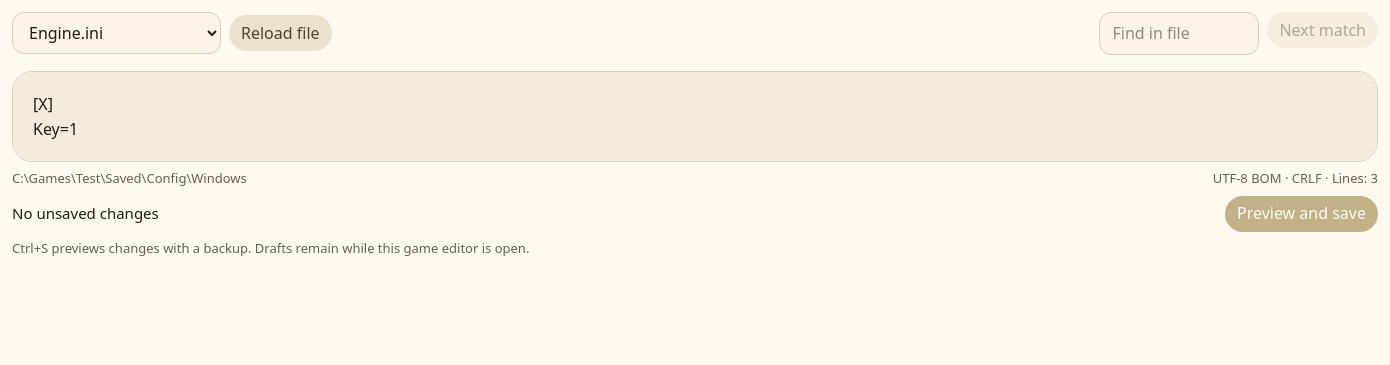
Scenario: INI text editor › reports a completed write even if rereading the saved file fails
Replace the text in the text box named "INI file text" with "; saved draft" at (695, 117), box [12,71,1378,162]
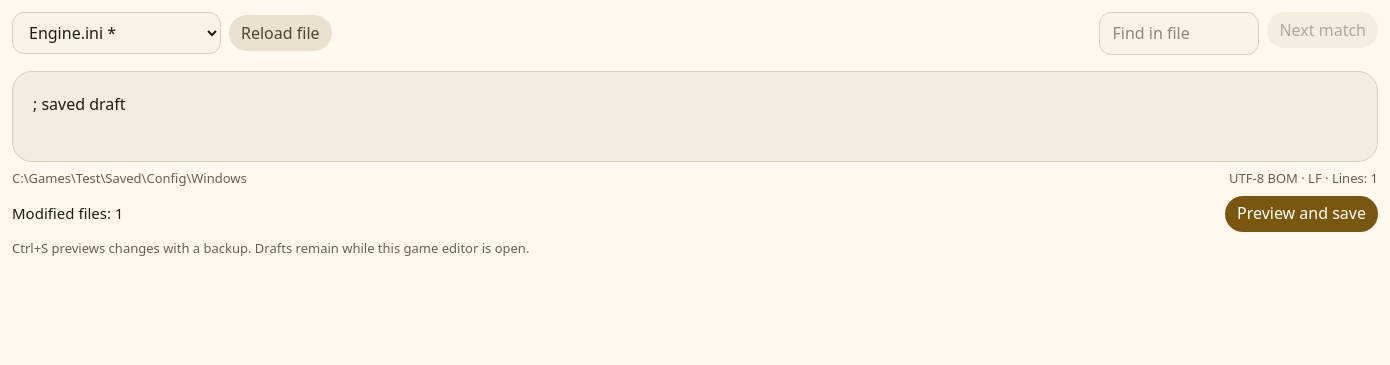
Click the button "Preview and save".
click(1302, 214)  # box [1225,196,1378,232]
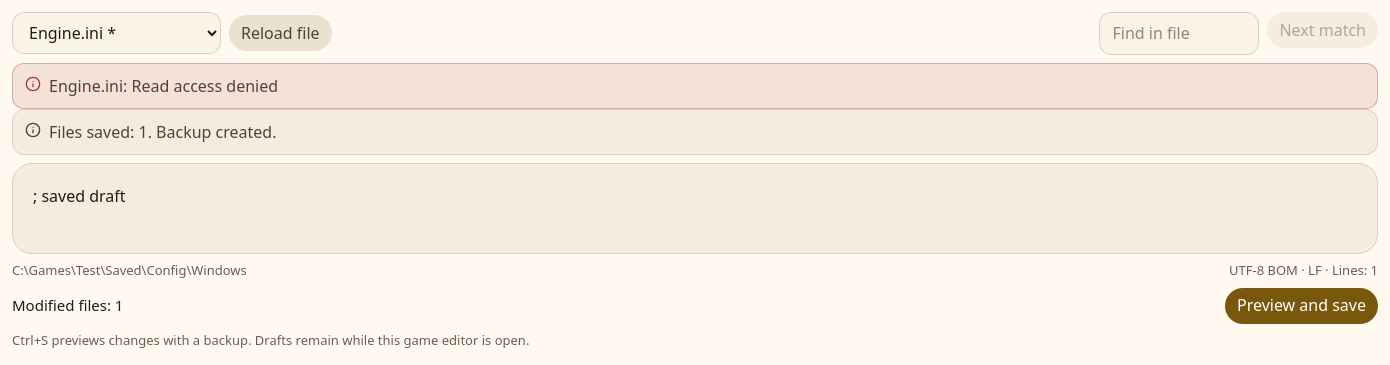
Check: the text "Files saved: 1. Backup created." is shown, box [49,120,276,144]
Check: the text "Engine.ini: Read access denied" is shown, box [49,74,278,98]
